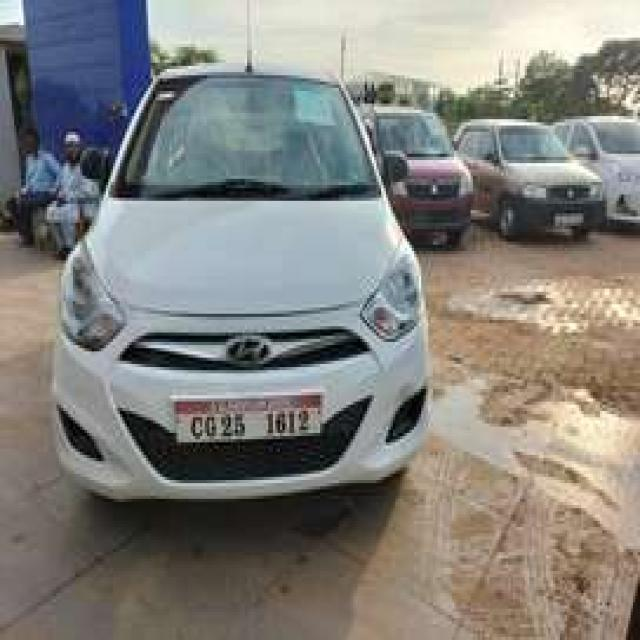Plate: (171, 393, 319, 437)
